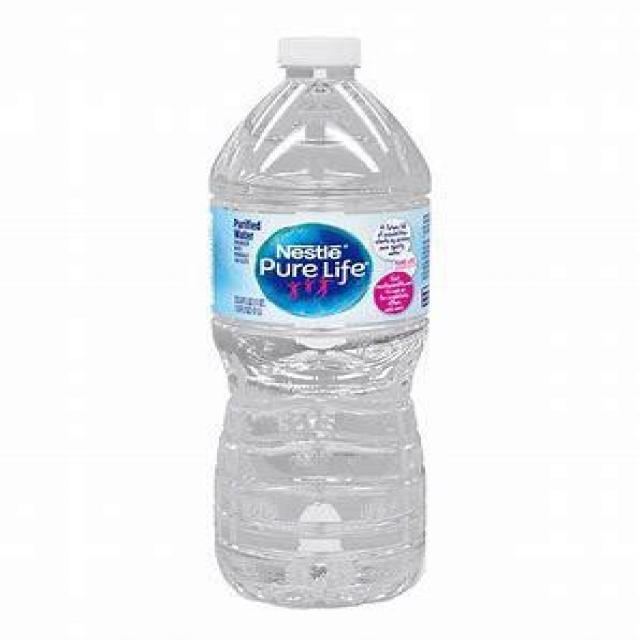bottle: (187, 24, 442, 626)
